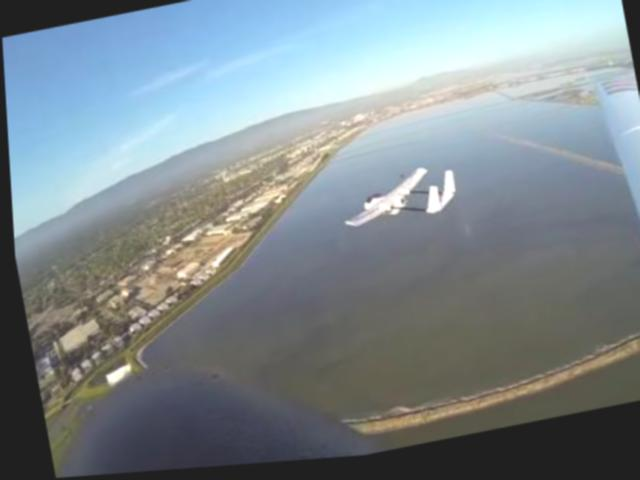uav: (332, 162, 458, 239)
